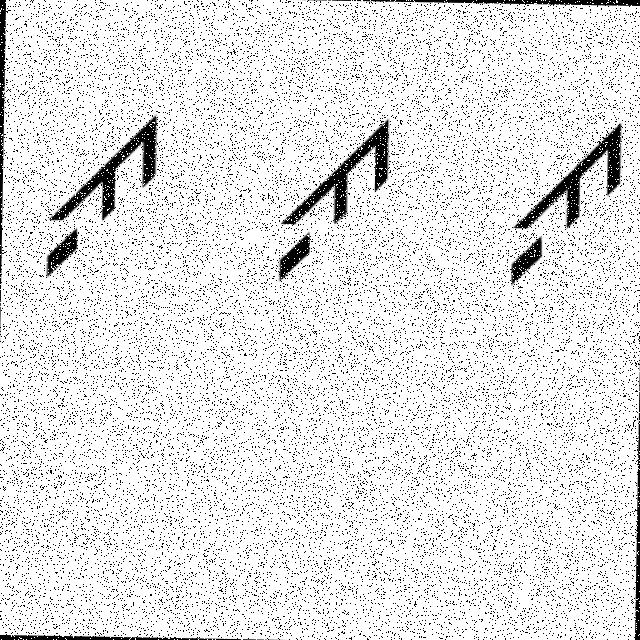ku: (36, 86, 174, 288), (260, 110, 410, 282), (496, 107, 632, 292)
